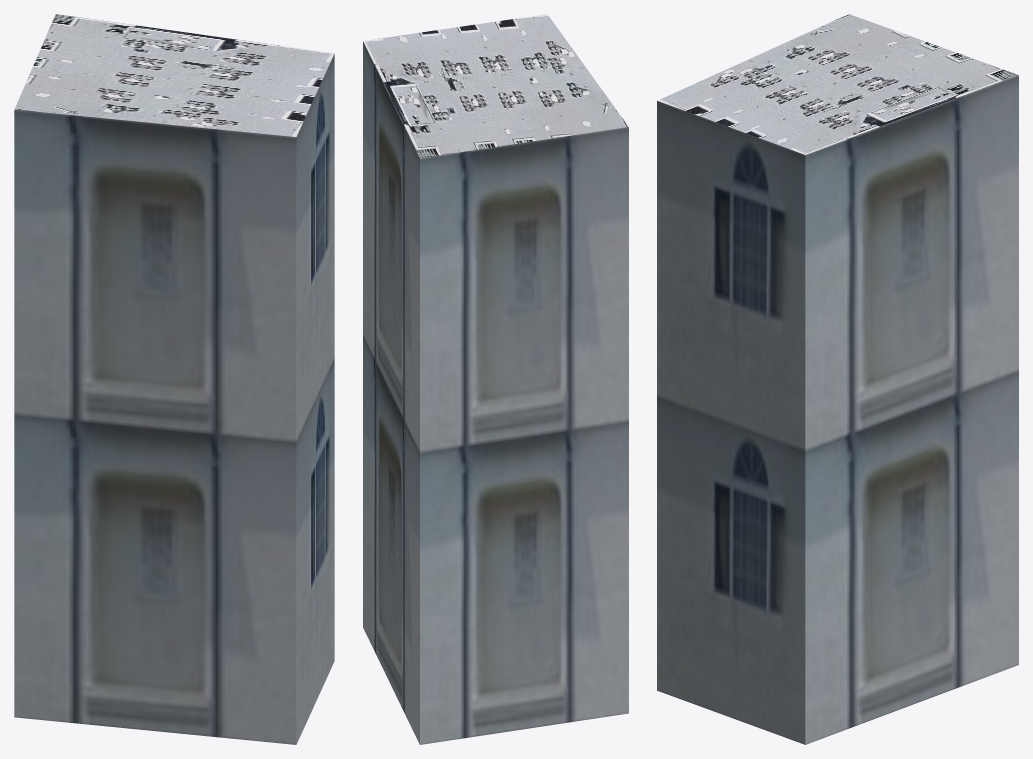
The model's file is ResTex__1713.fbx.
3 views of the same model, side by side, from view 1: azimuth 30°, elevation 25°; view 2: azimuth 150°, elevation 25°; view 3: azimuth 270°, elevation 25° (orthographic). The views are drawn at different scales.
Parts seen in each view (by area): view 1: CityEngineMaterial_17_m, CityEngineMaterial_4_m; view 2: CityEngineMaterial_17_m, CityEngineMaterial_4_m; view 3: CityEngineMaterial_17_m, CityEngineMaterial_4_m.
Boxes of the visible parts, x1,y1,x2,y2 form: CityEngineMaterial_17_m: [14, 54, 334, 744]; CityEngineMaterial_4_m: [14, 14, 334, 136]; CityEngineMaterial_17_m: [363, 41, 628, 744]; CityEngineMaterial_4_m: [363, 14, 628, 158]; CityEngineMaterial_17_m: [657, 75, 1018, 744]; CityEngineMaterial_4_m: [657, 14, 1018, 154].
Size of the model in its own units: 3.08 by 6 by 3.33.
2 materials, 2 textured.
